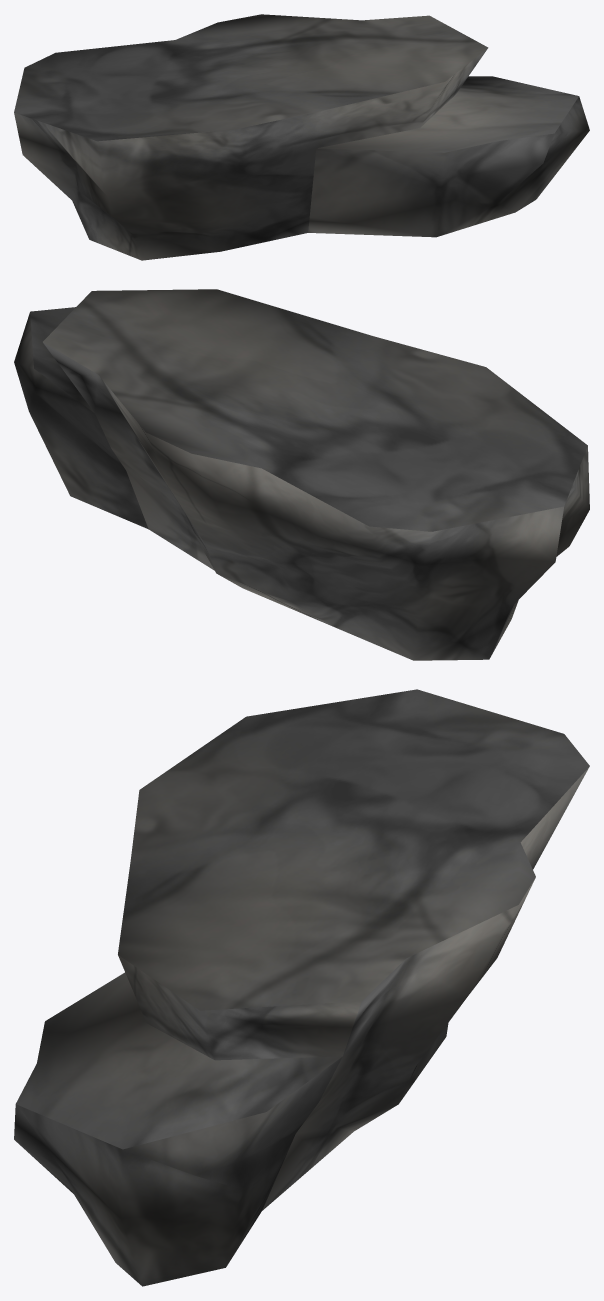
File: M_gake10.fbx
3 views of the same model, one above another, from view 1: azimuth 30°, elevation 25°; view 2: azimuth 150°, elevation 25°; view 3: azimuth 270°, elevation 25° (orthographic). The views are drawn at different scales.
Parts seen in each view (by area): view 1: M_gake10; view 2: M_gake10; view 3: M_gake10.
Part boxes in pixels (x1=…): M_gake10: x1=14, y1=14, x2=589, y2=260; M_gake10: x1=14, y1=289, x2=589, y2=660; M_gake10: x1=14, y1=689, x2=589, y2=1286.
Bounding box in the file's own units: 11989 × 3446 × 7189.
Materials: 1 (1 with a texture image).
